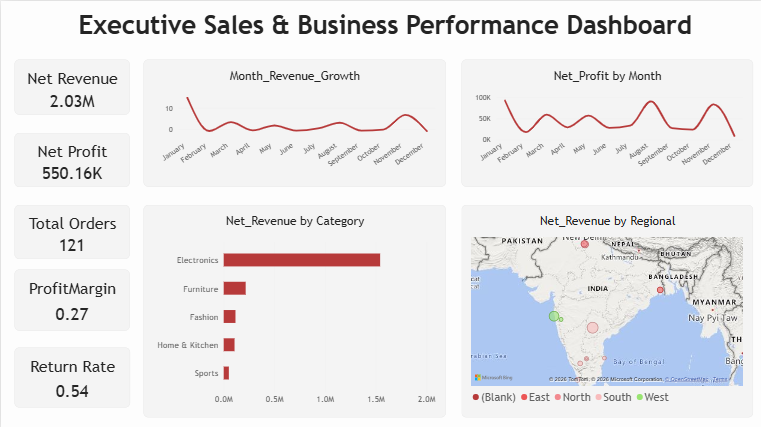

The dashboard page shown, as its layout file describes it:
{"tool":"powerbi","page":{"name":"Executive Summary","canvas":[1280,720],"ordinal":0},"visuals":[{"type":"kpi","title":"Net Revenue","fields":{"Indicator":["Sum(_Measures.Net Revenue)"],"TrendLine":["_Measures.Net Revenue"]},"box":[22,98,192,92],"z":0},{"type":"kpi","title":"Net Profit ","fields":{"Indicator":["Sum(_Measures.Net Profit)"],"TrendLine":["_Measures.Net Profit"]},"box":[22,220,192,90],"z":1000},{"type":"kpi","title":"ProfitMargin","fields":{"Indicator":["Sum(_Measures.Profit Margin %)"],"TrendLine":["_Measures.Profit Margin %"]},"box":[22.5,447.5,192,102],"z":2000},{"type":"kpi","title":"Total Orders ","fields":{"Indicator":["Sum(_Measures.Total Orders)"],"TrendLine":["_Measures.Total Orders"]},"box":[22,340,192,90],"z":3000},{"type":"kpi","title":"Return Rate ","fields":{"Indicator":["Sum(_Measures.Return Rate %)"],"TrendLine":["_Measures.Return Rate %"]},"box":[22.5,577.5,192.5,100],"z":4000},{"type":"lineChart","title":"Month_Revenue_Growth ","fields":{"Category":["Calendar.Month Name"],"Y":["_Measures.MoM_Revenue_Growth %"]},"box":[238,98,504,212],"z":5000},{"type":"lineChart","title":"Net_Profit by Month","fields":{"Category":["Calendar.Month Name"],"Y":["_Measures.Net_Profit"]},"box":[768,98,486,212],"z":6000},{"type":"barChart","fields":{"Category":["products_raw.Category"],"Y":["_Measures.Net_Revenue"]},"box":[238,340,504,354],"z":7000},{"type":"map","title":"Net_Revenue by Regional","fields":{"Category":["customers_raw.Column4"],"Series":["customers_raw.Column6"],"Size":["_Measures.Net_Revenue"]},"box":[768,340,486,354],"z":8000},{"type":"textbox","box":[0,14,1280,66],"z":10000}]}

Visuals, with their boxes in screenshot pixels (x1, y1, x2, y2), scaled from the page's 1280x720 canvas onto the 761x427 screenshot:
"Net Revenue" kpi: [13, 58, 127, 113]
"Net Profit " kpi: [13, 130, 127, 184]
"ProfitMargin" kpi: [13, 265, 128, 326]
"Total Orders " kpi: [13, 202, 127, 255]
"Return Rate " kpi: [13, 342, 128, 402]
"Month_Revenue_Growth " lineChart: [141, 58, 441, 184]
"Net_Profit by Month" lineChart: [457, 58, 746, 184]
barChart - products_raw.Category x _Measures.Net_Revenue: [141, 202, 441, 412]
"Net_Revenue by Regional" map: [457, 202, 746, 412]
textbox: [0, 8, 760, 47]
